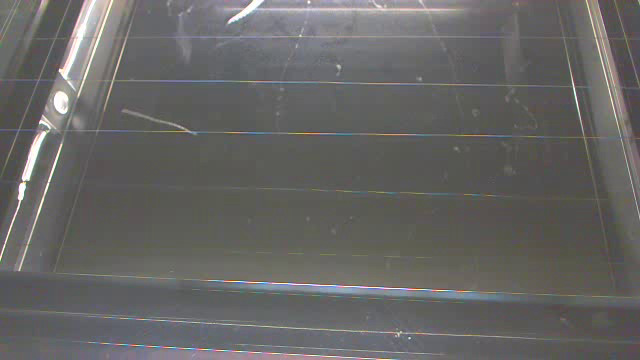alpha: (119, 109, 200, 137), (225, 1, 267, 28)
